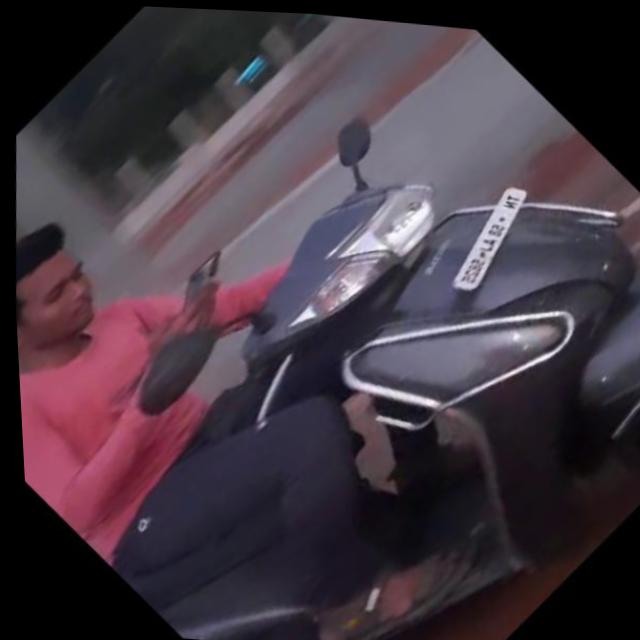USING_MOBILE: (5, 129, 259, 459)
